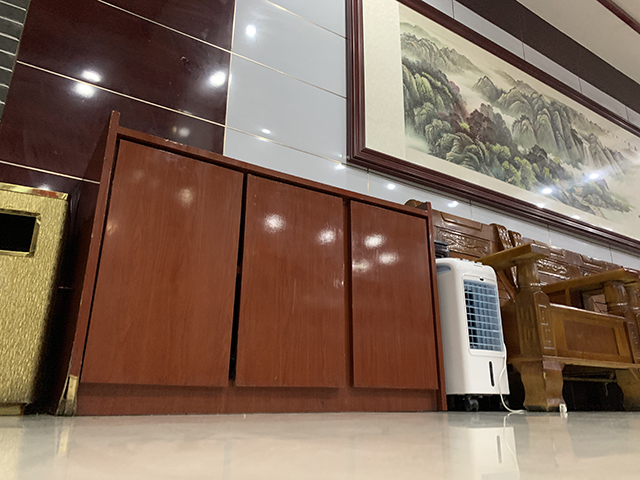cabinet: (48, 108, 450, 418)
sofa: (404, 197, 640, 413)
wire: (498, 343, 570, 415)
